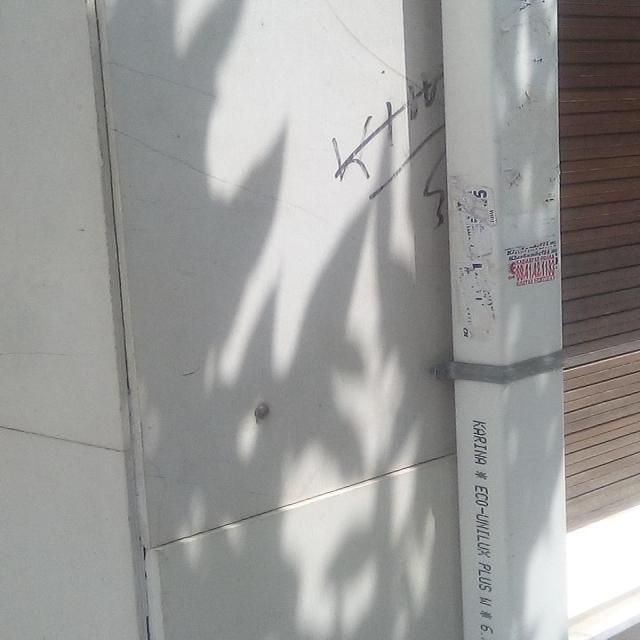nonspitting: (330, 68, 452, 228)
